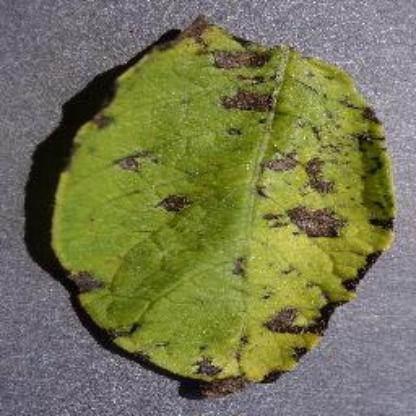Early-Blight: (42, 14, 398, 402)
